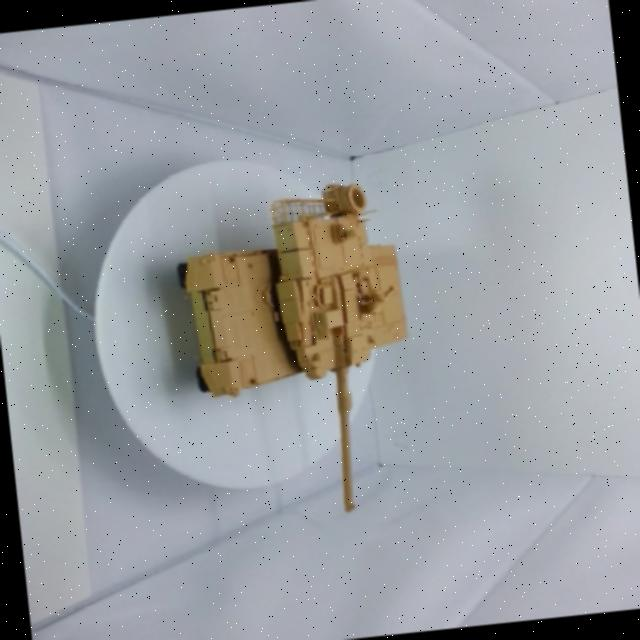korea tank: (134, 138, 468, 546)
